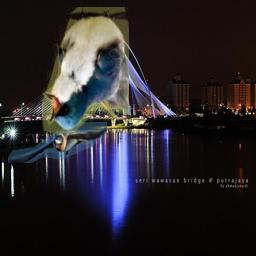Swallow: (42, 7, 129, 134), (8, 122, 107, 163)
